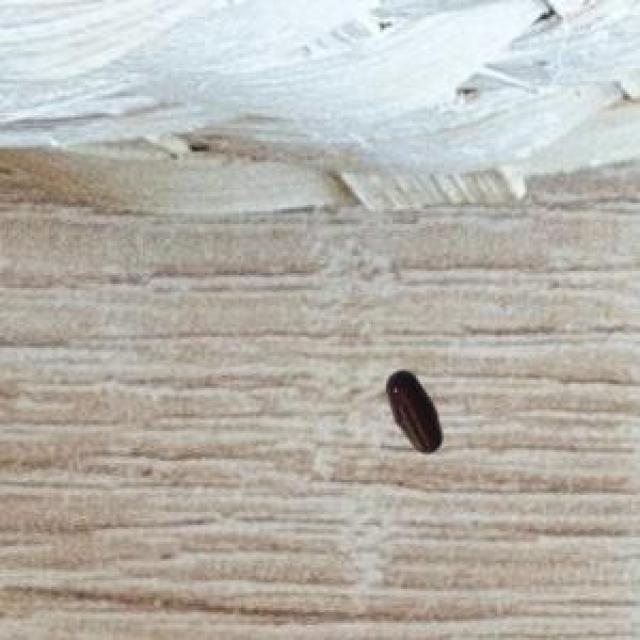DayZinc: (371, 345, 467, 469)
